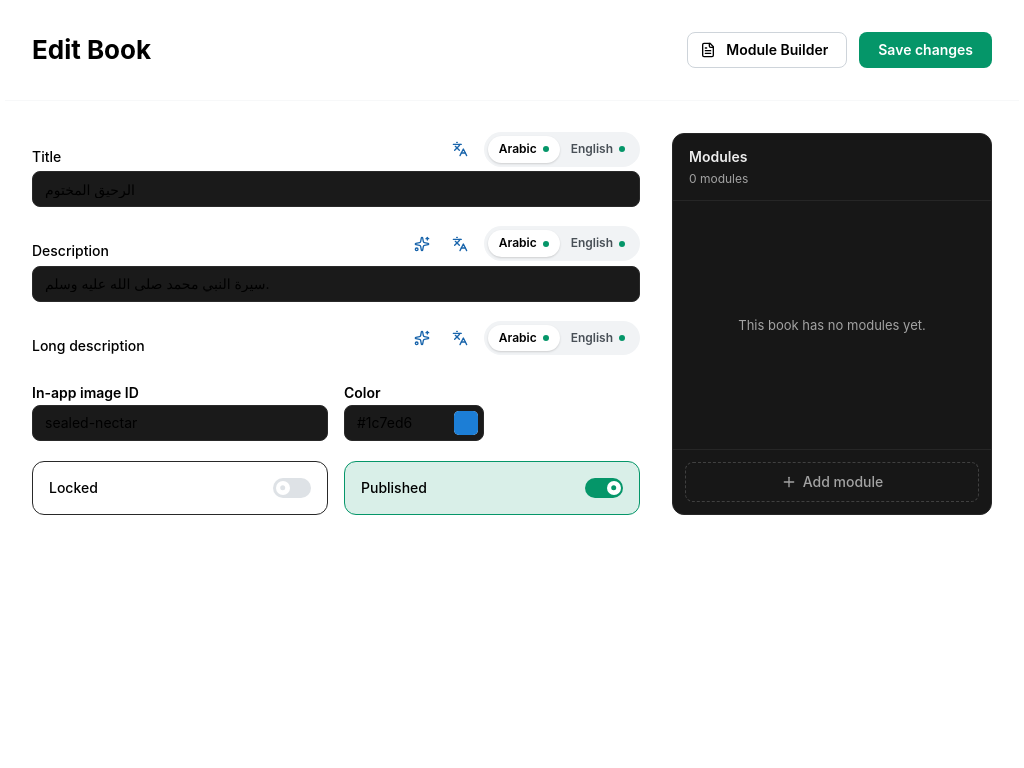
Test: EditBookPage › Modules › opens the Add Module drawer instead of inserting a blank Module directly (ANA-94)
expect the text "This book has no modules yet." is shown: met, box [738,317,926,333]
Click the button "Add module" at (832, 482), box [685,462,979,502]
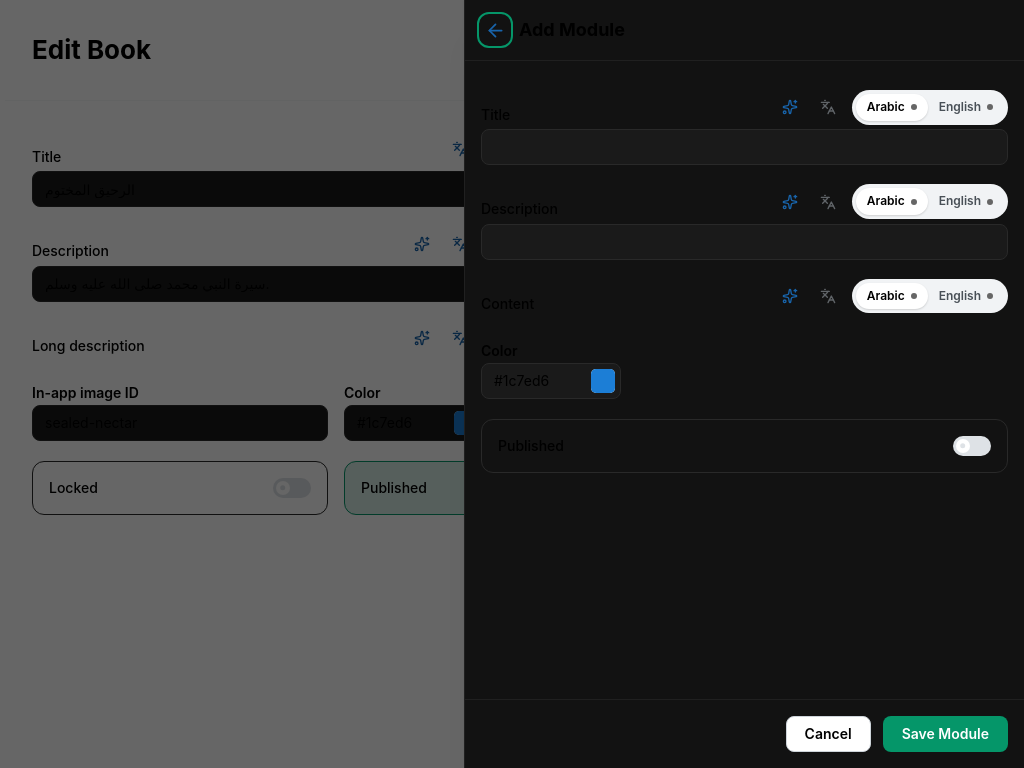
expect the dialog "Add Module" is shown: met, box [464,0,1023,767]
